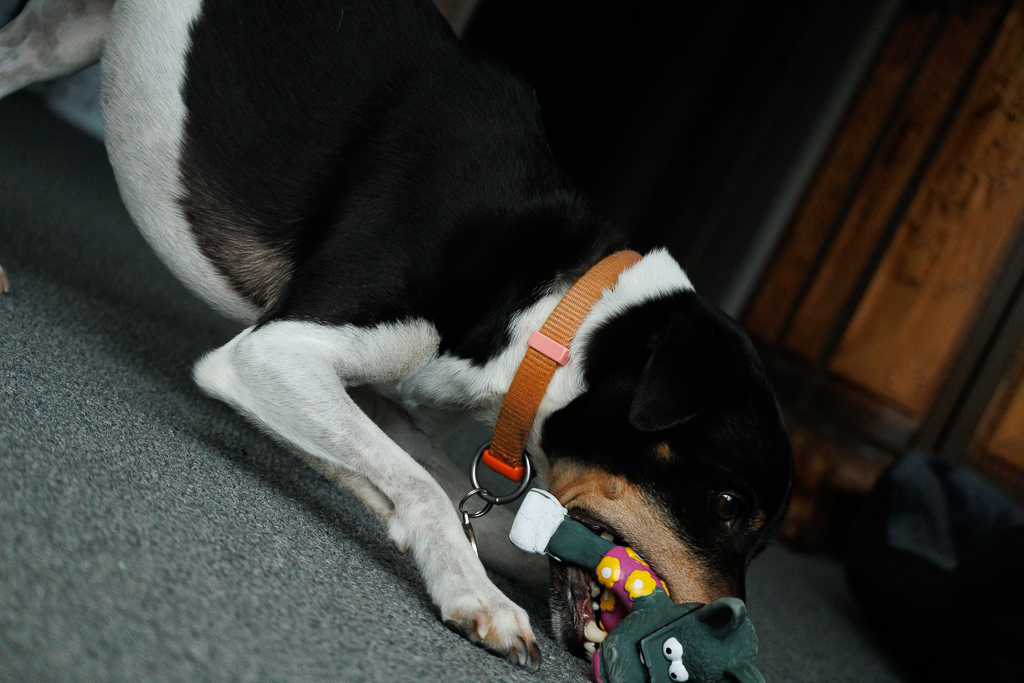Dog: (0, 0, 809, 683)
Humanoid: (497, 473, 780, 683)
